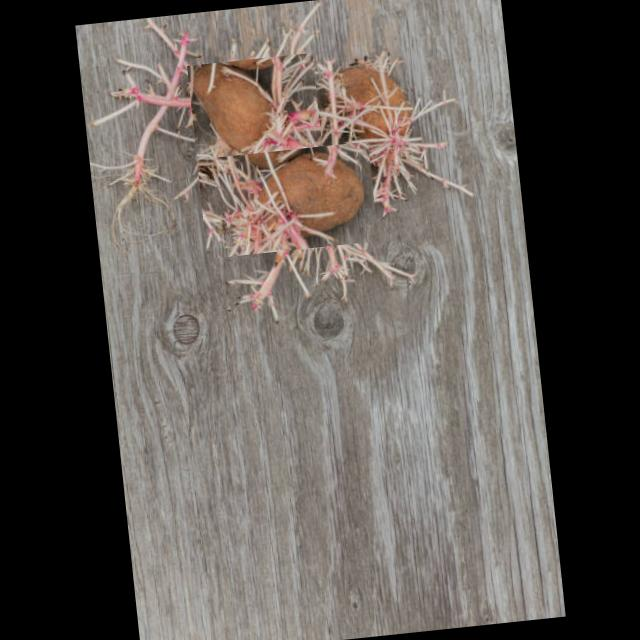Sprouted potato: (196, 140, 378, 258), (186, 51, 324, 174), (334, 50, 438, 186)
